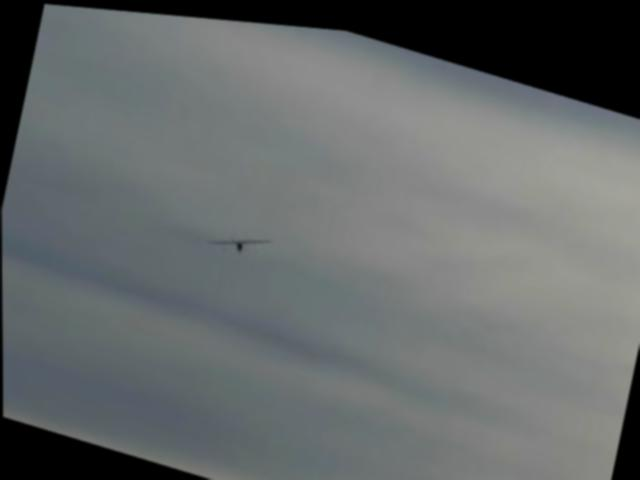uav: (203, 212, 277, 266)
